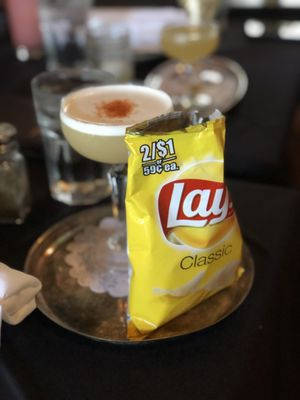pizza: (33, 80, 174, 206), (31, 69, 121, 206), (39, 0, 94, 72), (0, 0, 44, 63)
